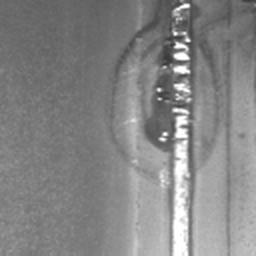Slag inclusion: (102, 0, 234, 256), (234, 0, 256, 61)
